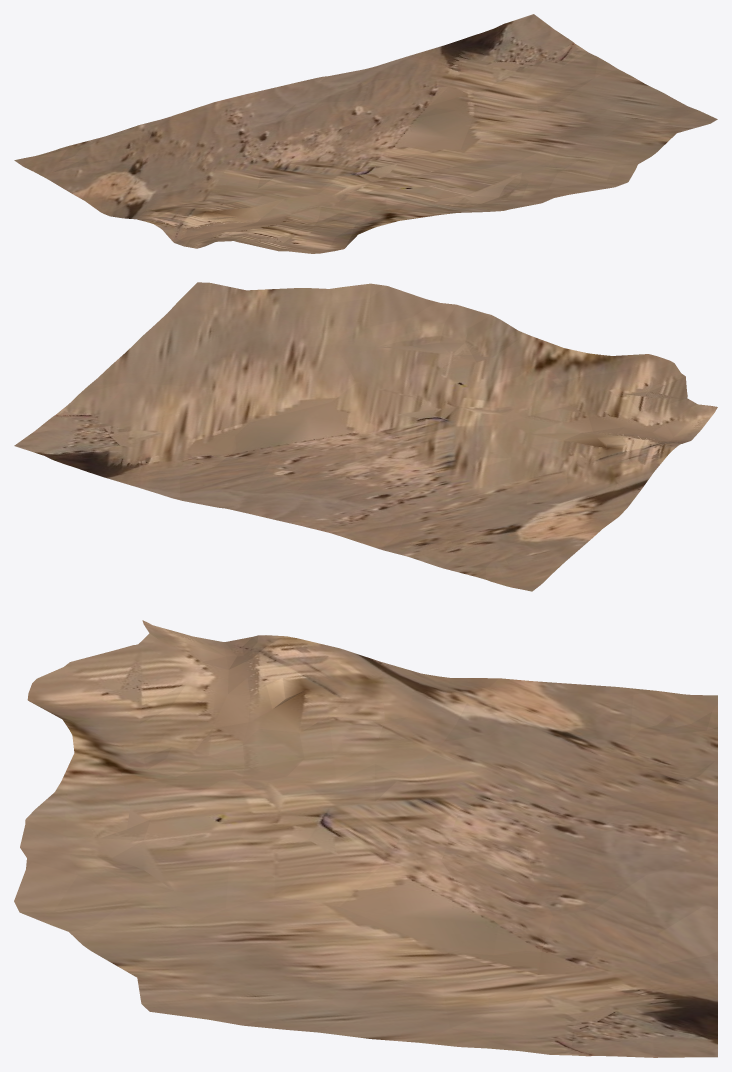
3 views of the same model, one above another, from view 1: azimuth 30°, elevation 25°; view 2: azimuth 150°, elevation 25°; view 3: azimuth 270°, elevation 25° (orthographic). The views are drawn at different scales.
Bounding box in the file's own units: 2.09 × 0.191 × 1.59.
2 materials, 2 textured.
